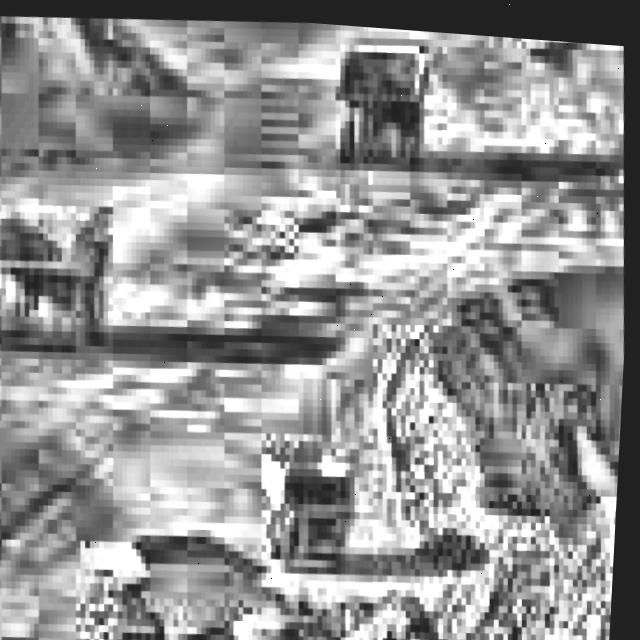dump_truck: (0, 155, 144, 379), (43, 500, 265, 640), (319, 19, 455, 193), (251, 402, 386, 575)
excavator: (240, 540, 496, 640)
